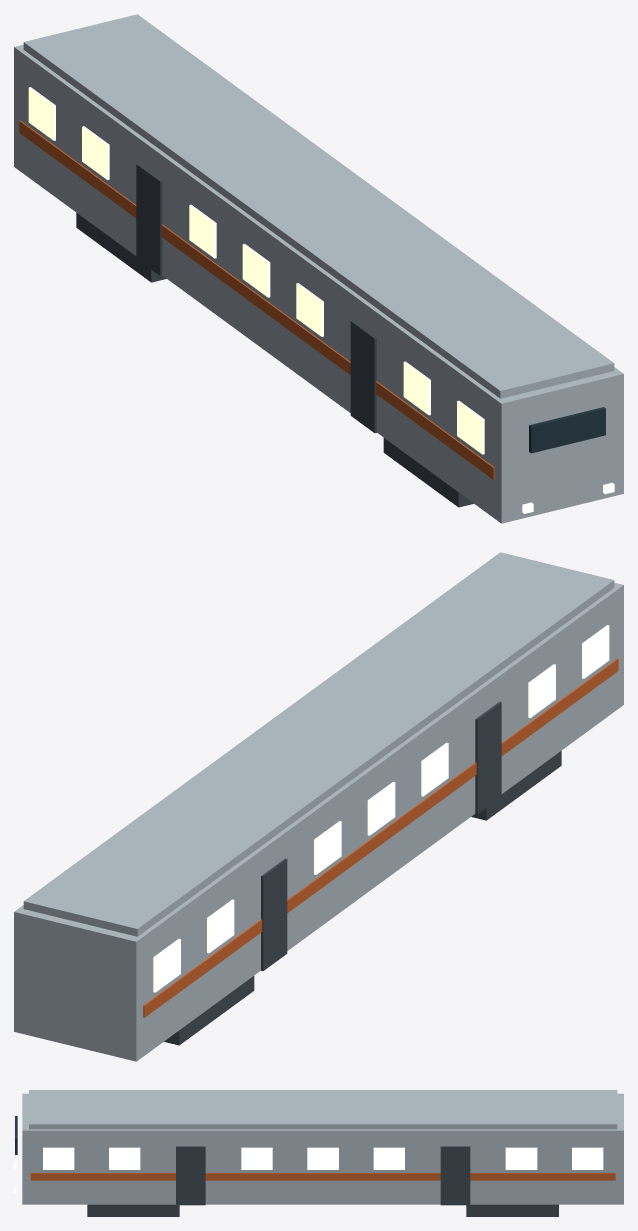
Rendered from subway-cab.glb.
The picture shows the model from 3 angles, top to bottom: view 1: azimuth 30°, elevation 25°; view 2: azimuth 150°, elevation 25°; view 3: azimuth 270°, elevation 25°; orthographic projection. The views are drawn at different scales.
Size of the model in its own units: 2.73 by 3.14 by 18.45.
